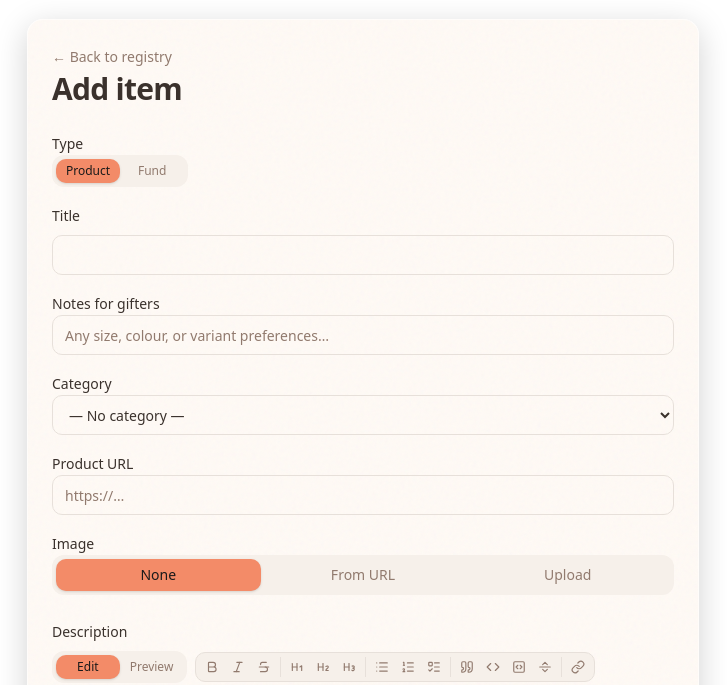
AddItemPage › auto-fills form fields after URL blur when scraping returns a result
The width and height of the screenshot is (727, 685).
Type "https://www.lazada.com.ph/products/stroller-123" into the field labelled "Product URL" at (363, 495), box [52,475,674,515]
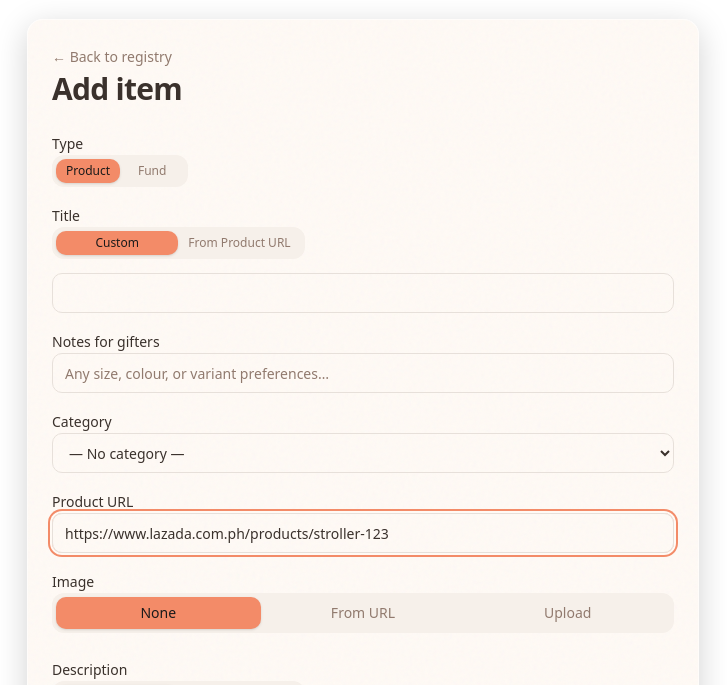
Leave the field labelled "Product URL", box [52,513,674,553]
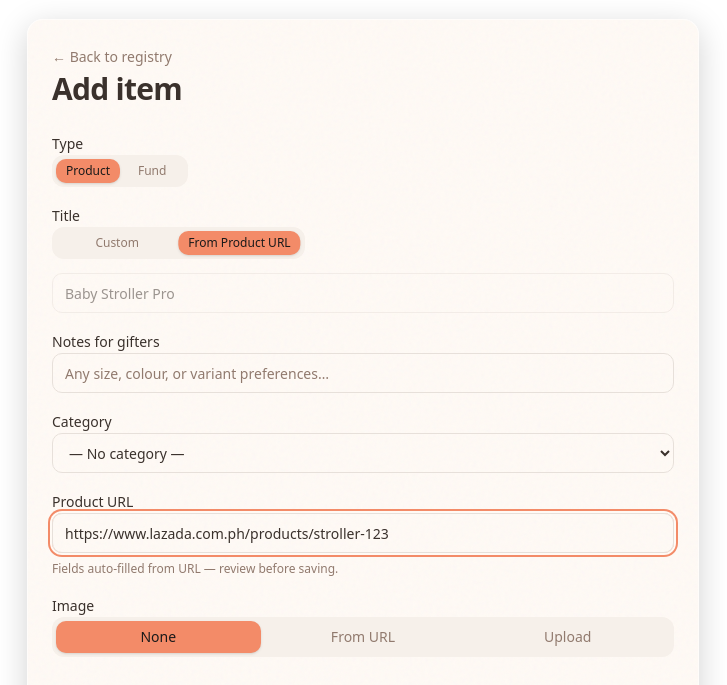
Expected: the field showing "Baby Stroller Pro" is shown, [52,273,674,313]
Expected: the text "Fields auto-filled from URL — review before saving." is shown, [52,560,338,577]
